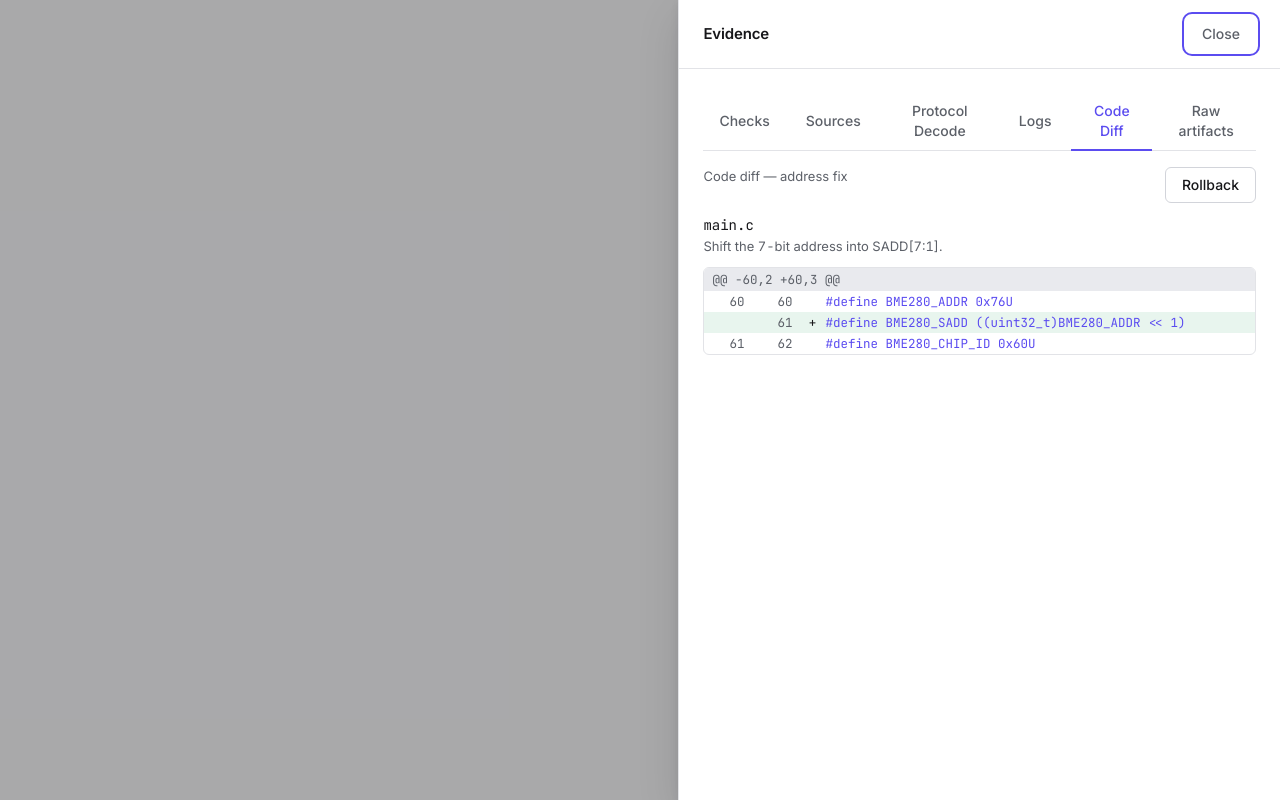
Test case: EvidenceDrawer rollback affordance (§7.4) › is enabled while the run is non-terminal and surfaces the MVP notice on click
Click the button "Rollback" at x=1210, y=185, box [1165,167,1256,203]
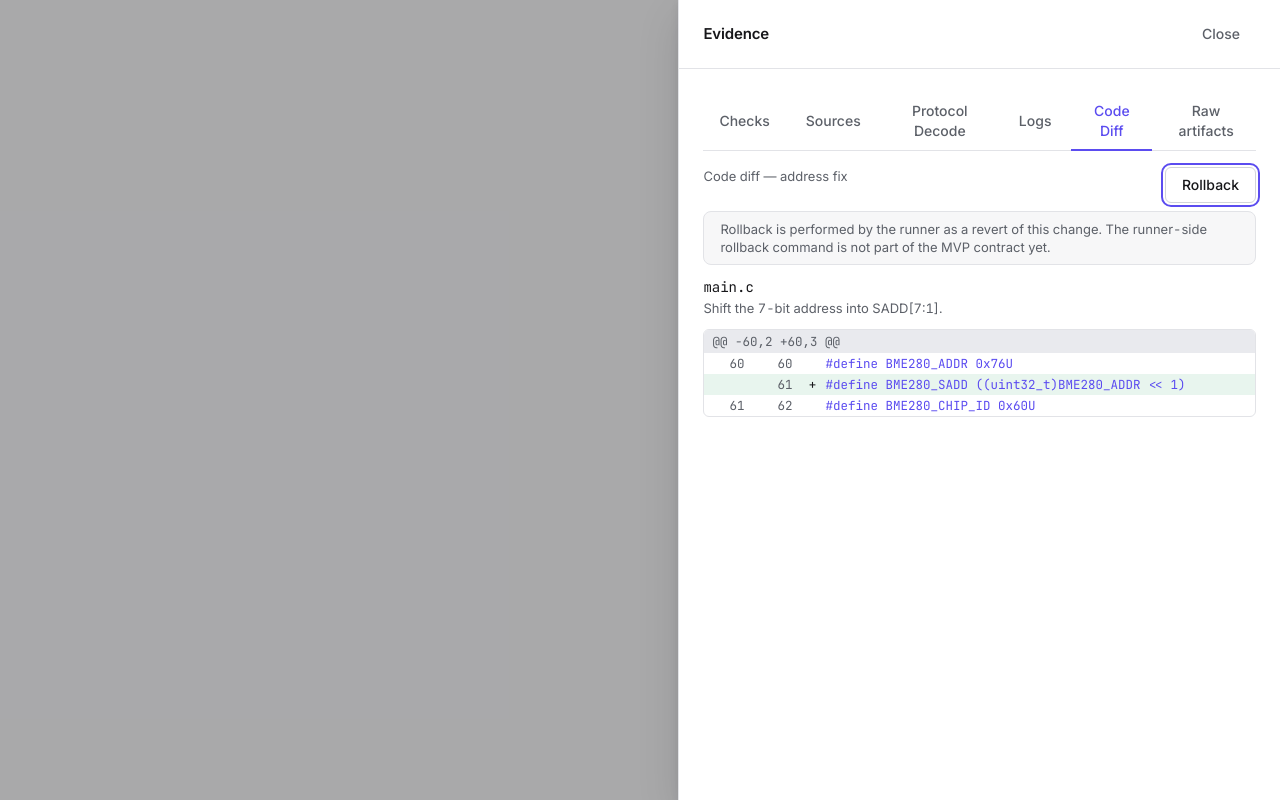
Check: the message shows "performed by the runner", box [720,221,1207,255]
